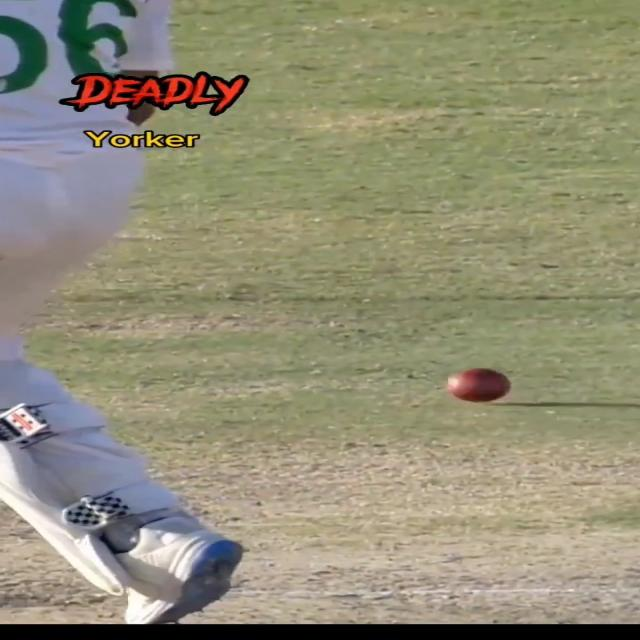Cricket ball: (446, 365, 516, 406)
